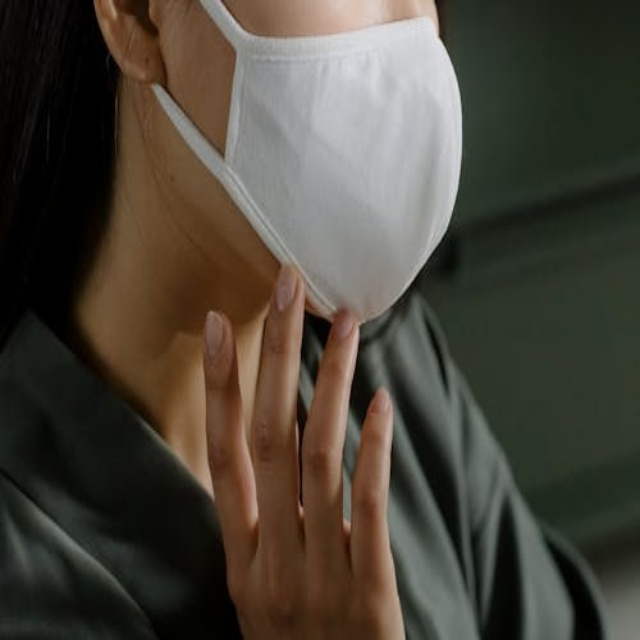Mascara: (141, 1, 463, 327)
Sin_guantes: (198, 257, 406, 640)
